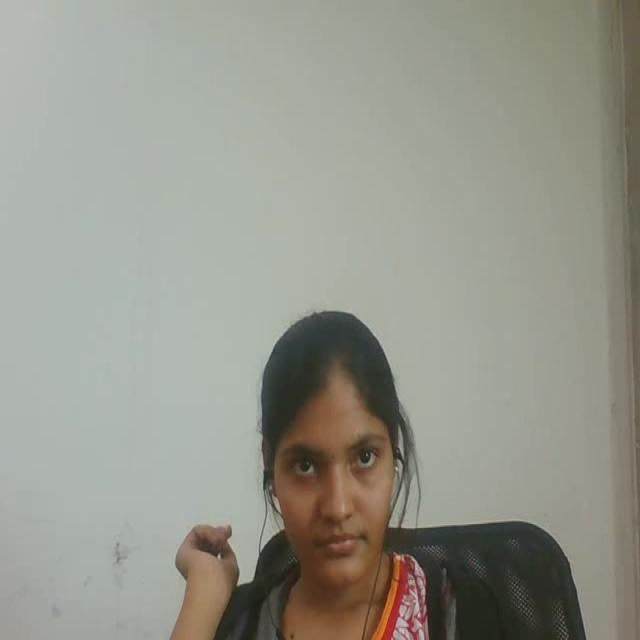Engaged: (219, 287, 406, 603)
